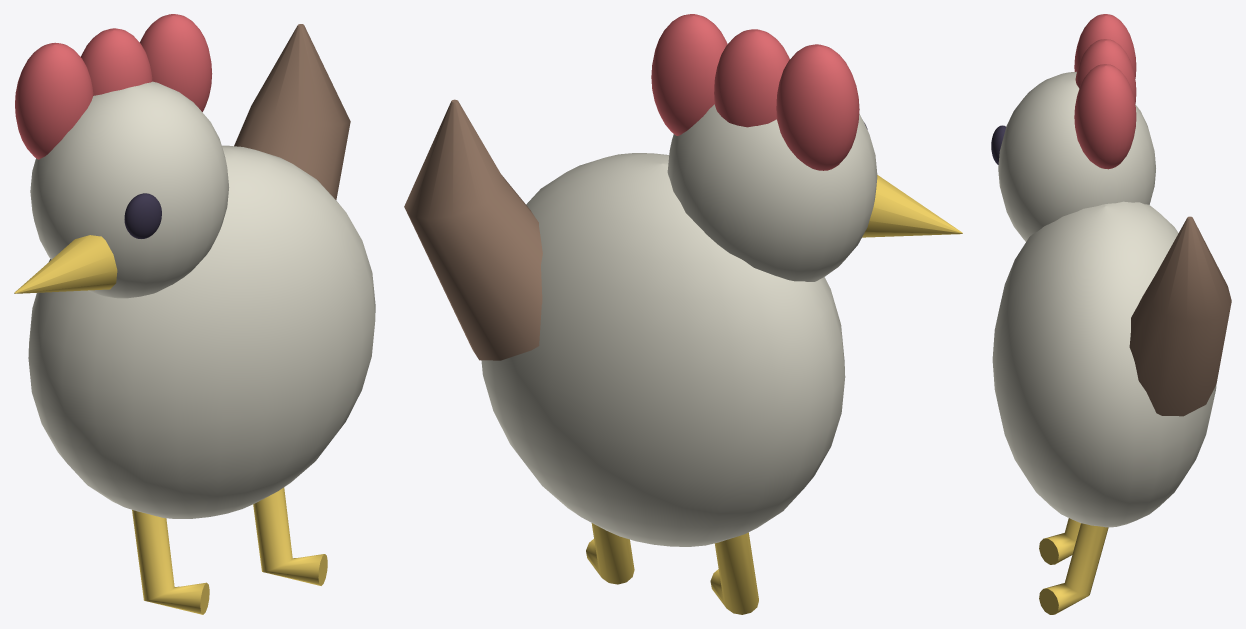
Rendered from chicken.glb.
The picture shows the model from 3 angles, left to right: view 1: azimuth 30°, elevation 25°; view 2: azimuth 150°, elevation 25°; view 3: azimuth 270°, elevation 25°; orthographic projection. The views are drawn at different scales.
Size of the model in its own units: 21 by 27 by 11.81.
